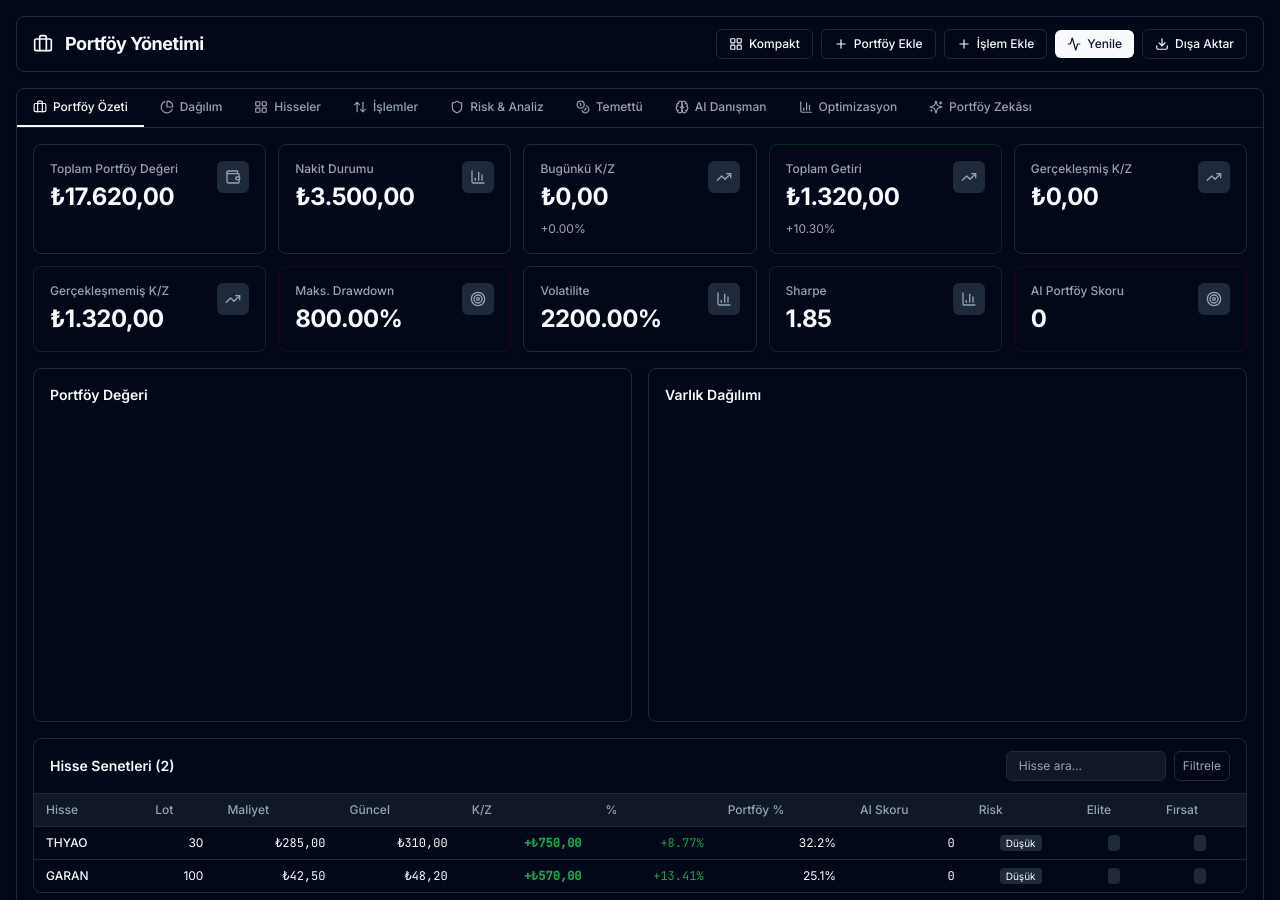
PortfolioPage › toggles compact mode
Expected: the heading "Portföy Yönetimi" is shown, top-left (65, 30), bottom-right (204, 58)
Click the button with aria-label "Kompakt görünüm": (764, 44) top-left (716, 29), bottom-right (813, 59)
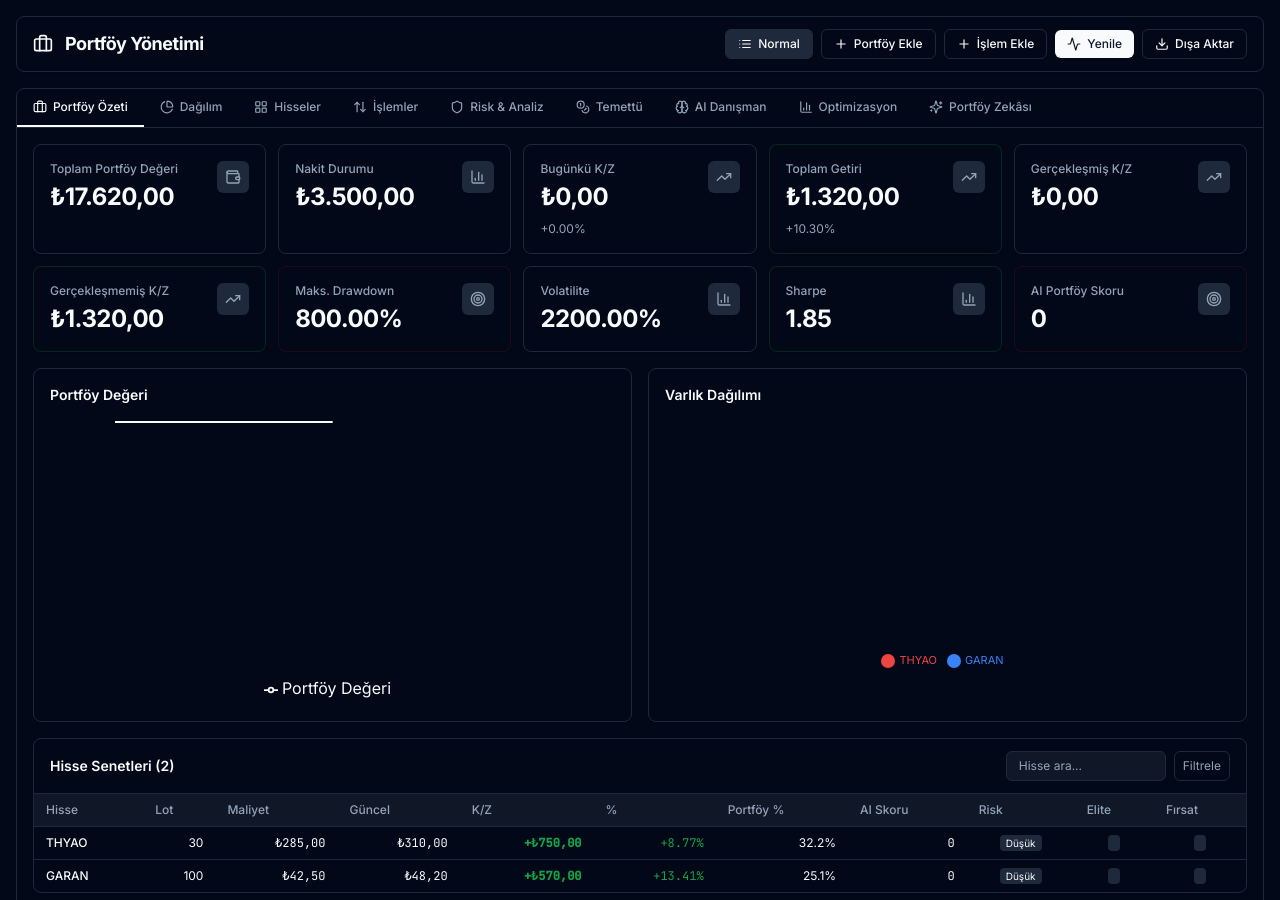
Result: the button "Normal" is shown at top-left (725, 29), bottom-right (813, 59)
